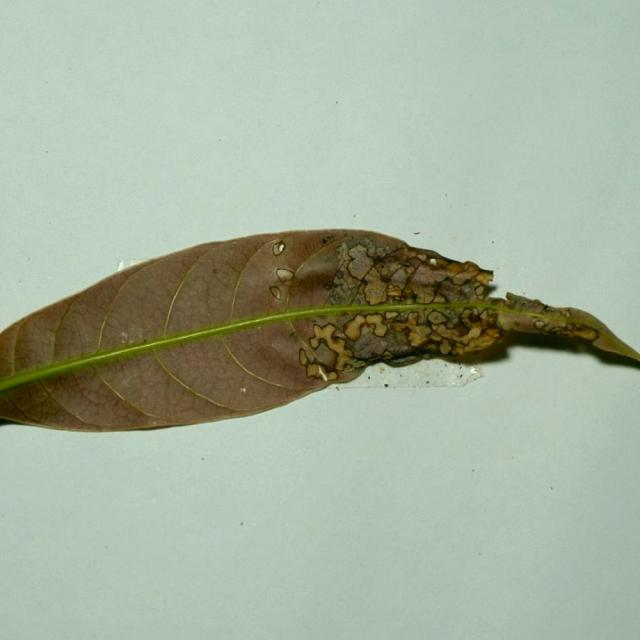Anthracnose: (290, 242, 347, 285), (350, 328, 397, 362), (343, 243, 377, 285), (407, 261, 450, 292), (308, 321, 344, 354), (350, 312, 390, 340), (394, 259, 424, 293), (362, 273, 389, 305), (310, 339, 338, 369), (566, 324, 600, 341), (342, 317, 365, 340), (414, 282, 436, 305), (449, 269, 476, 286), (389, 267, 410, 288), (305, 362, 328, 381), (472, 269, 495, 287), (547, 324, 577, 337), (461, 325, 484, 341), (41, 332, 55, 358), (411, 325, 432, 342), (389, 321, 415, 334), (426, 310, 449, 324), (444, 261, 464, 275), (386, 284, 404, 299), (403, 311, 421, 326), (276, 268, 295, 282), (454, 323, 472, 337), (349, 244, 367, 257), (299, 348, 311, 365), (381, 268, 396, 281), (307, 336, 321, 349), (269, 286, 282, 300), (439, 342, 451, 354), (375, 246, 388, 257), (385, 311, 399, 320), (417, 253, 427, 261), (561, 309, 571, 317)
Mango: (0, 229, 639, 436)
